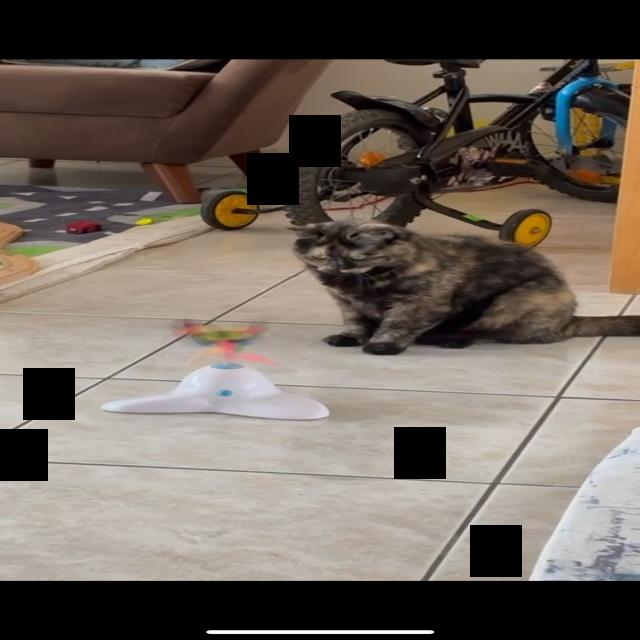authorized: (286, 218, 638, 356)
